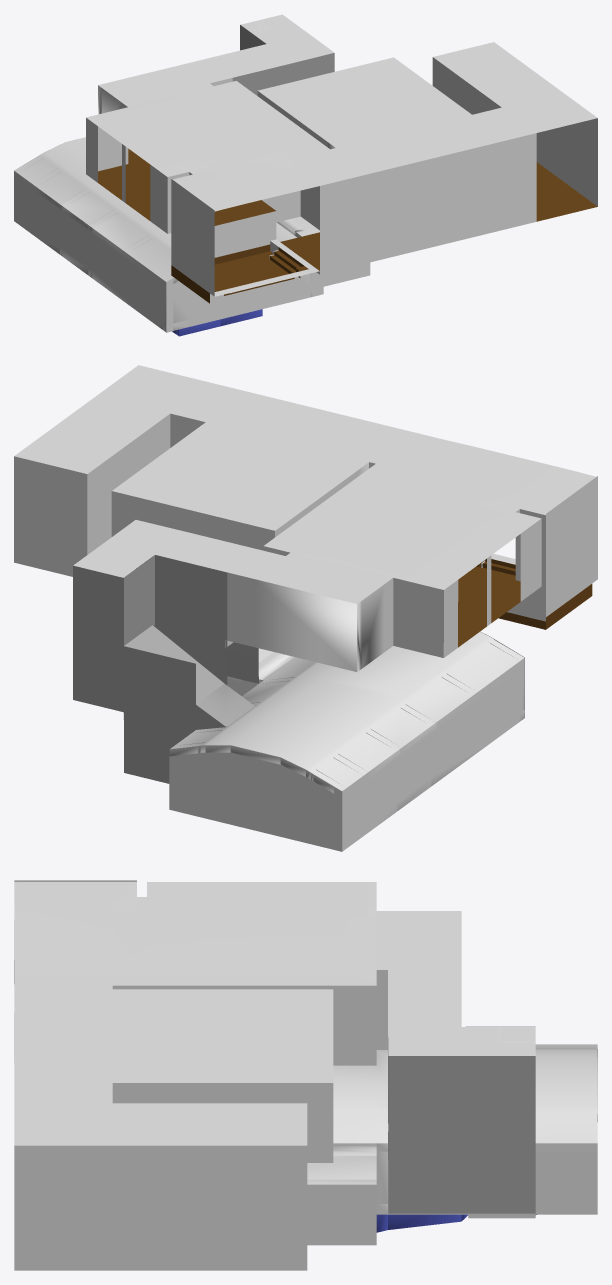
Rendered from new_journey_home-baduv-improved.fbx.
3 views of the same model, one above another, from view 1: azimuth 30°, elevation 25°; view 2: azimuth 150°, elevation 25°; view 3: azimuth 270°, elevation 25° (orthographic). The views are drawn at different scales.
Parts seen in each view (by area): view 1: Roof, pool, main wallway, Entry hall.008, main wallway.001, entry hall, stairs to pool, hallway, movie room, beam.004; view 2: Roof, pool, stairs to pool, entry hall, hallway, Entry hall.008, main wallway.001, movie room, beam.005; view 3: Roof, entry hall, pool, stairs to pool, movie room, Entry hall.008, hallway.
Boxes of the visible parts, x1,y1,x2,y2 form: Roof: (86, 14, 597, 211); pool: (14, 137, 370, 336); main wallway: (280, 133, 536, 274); Entry hall.008: (86, 118, 319, 257); main wallway.001: (171, 179, 319, 303); entry hall: (432, 57, 597, 221); stairs to pool: (232, 24, 334, 95); hallway: (98, 78, 232, 163); movie room: (257, 91, 335, 149); beam.004: (166, 241, 281, 332); Roof: (14, 365, 596, 603); pool: (169, 632, 524, 851); stairs to pool: (73, 555, 258, 783); entry hall: (14, 414, 170, 576); hallway: (227, 572, 393, 671); Entry hall.008: (263, 509, 545, 657); main wallway.001: (476, 476, 597, 629); movie room: (111, 413, 375, 550); beam.005: (169, 742, 341, 851); Roof: (14, 882, 535, 1145); entry hall: (14, 1145, 307, 1270); pool: (307, 1044, 597, 1245); stairs to pool: (388, 1026, 535, 1213); movie room: (112, 1083, 333, 1162); Entry hall.008: (112, 985, 376, 1065); hallway: (376, 970, 387, 1049).
Bounding box in the file's own units: 25.42 × 12.13 × 23.81.
